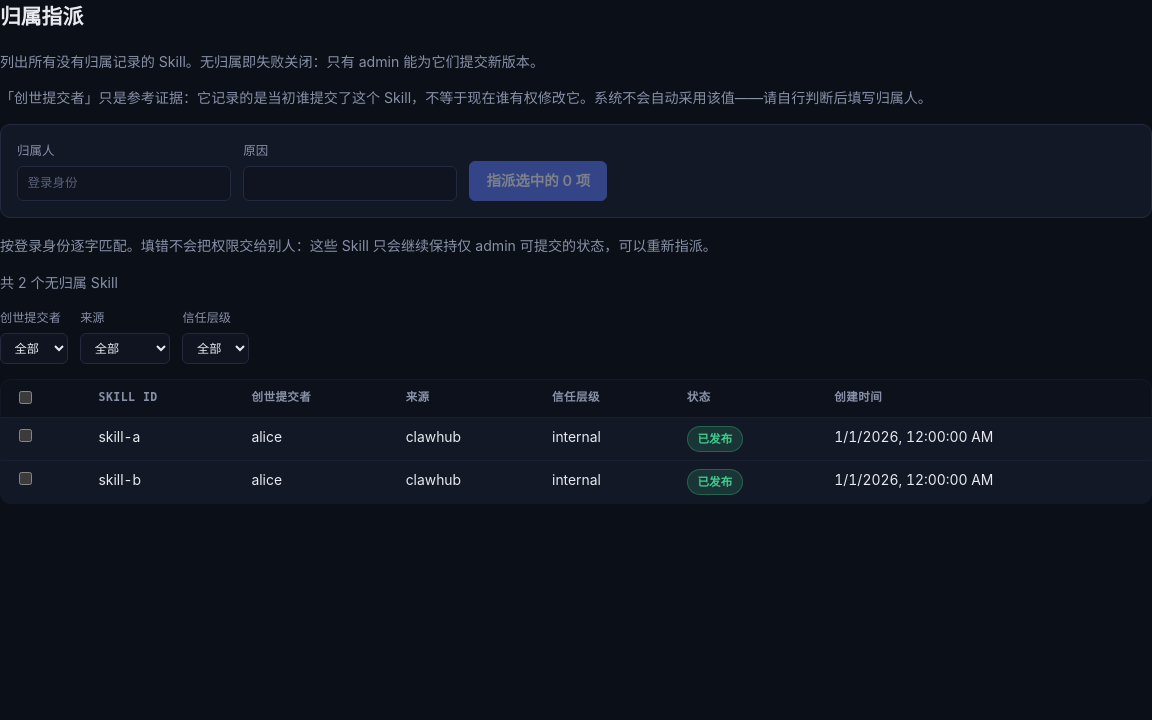
Test: AdminOwnershipPage › shows every row that was not assigned instead of rounding to success
The width and height of the screenshot is (1152, 720).
expect the text "skill-a" is shown: met, box [85, 418, 238, 461]
Click the checkbox named "全选当前页" at point(25, 397), box [19, 391, 32, 404]
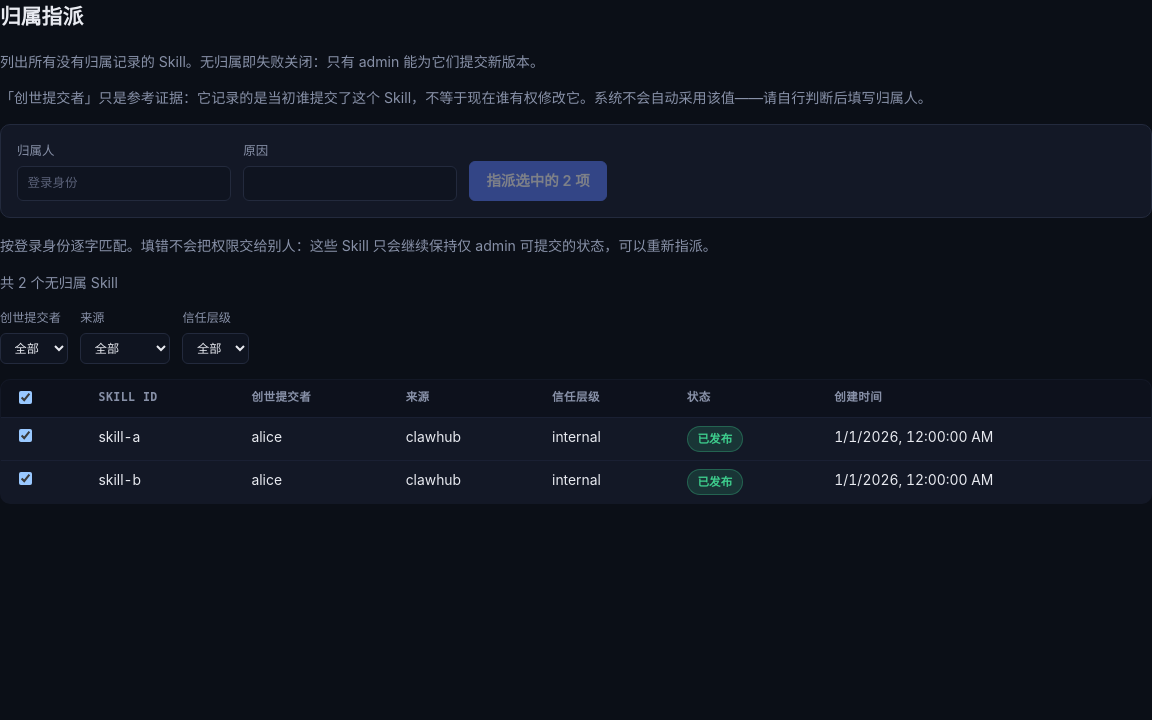
Type "alice" into the field with placeholder "登录身份" at point(124, 183), box [17, 166, 231, 200]
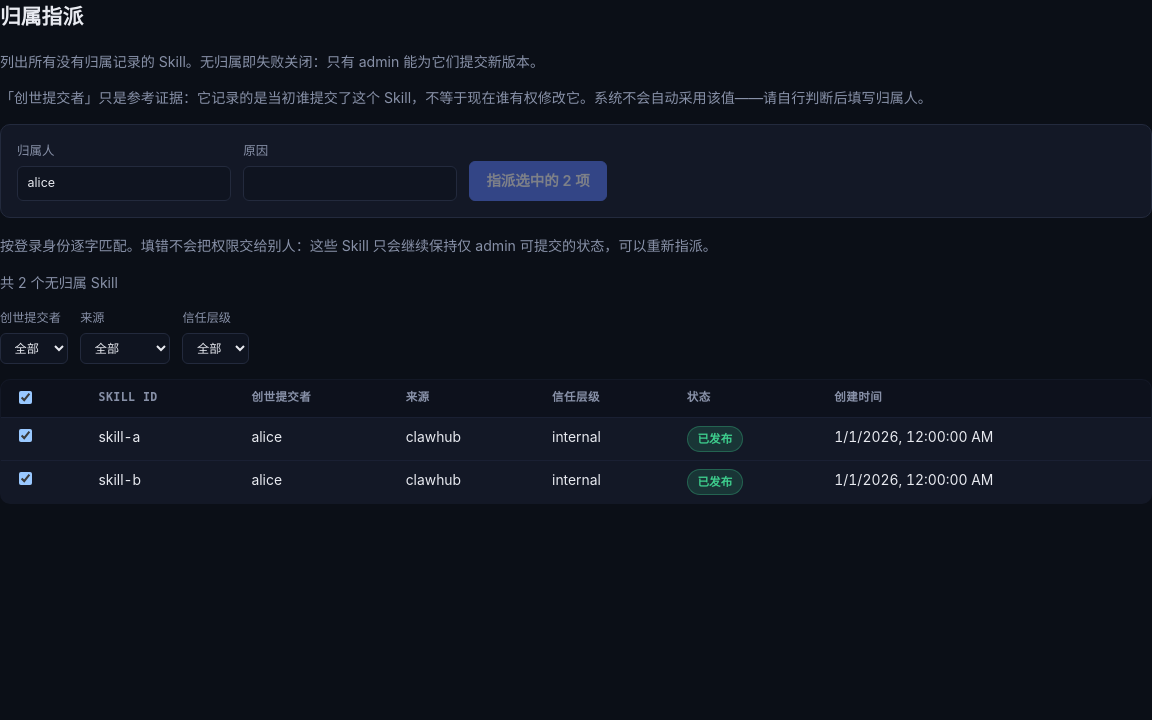
Type "r" into the field labelled "原因" at point(350, 183), box [243, 166, 457, 200]
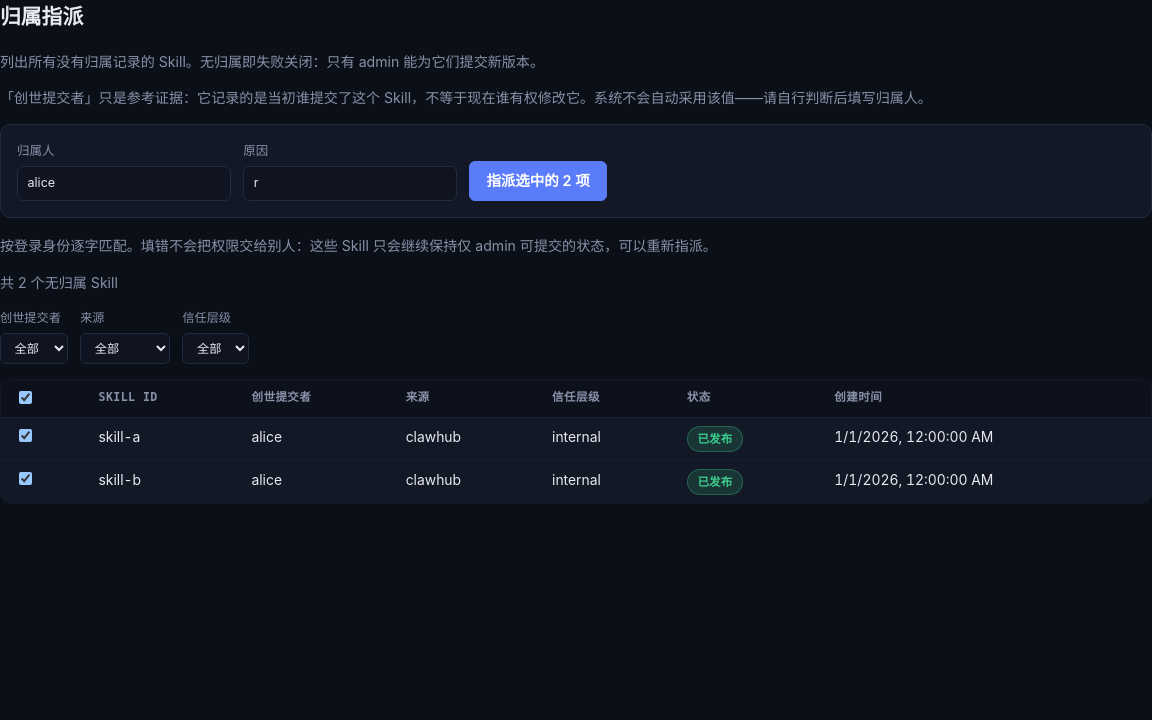
Click the button "指派选中的 2 项" at point(538, 181), box [469, 161, 607, 201]
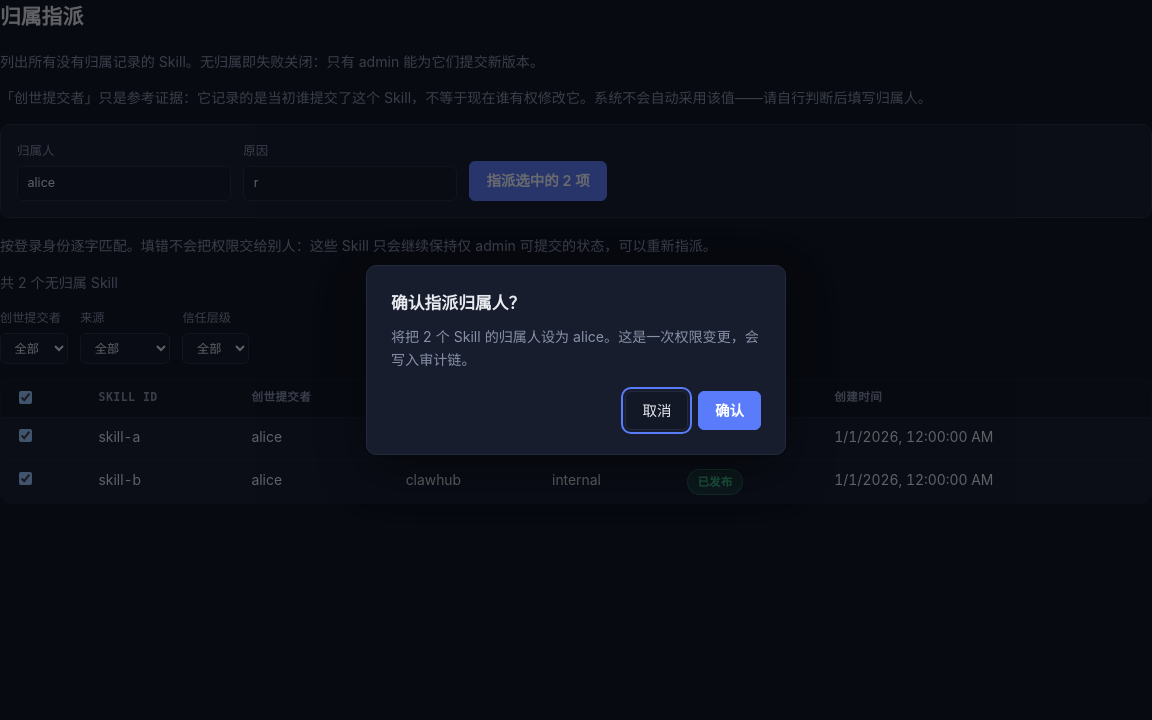
Click the button "确认" at point(730, 410), box [698, 391, 761, 430]
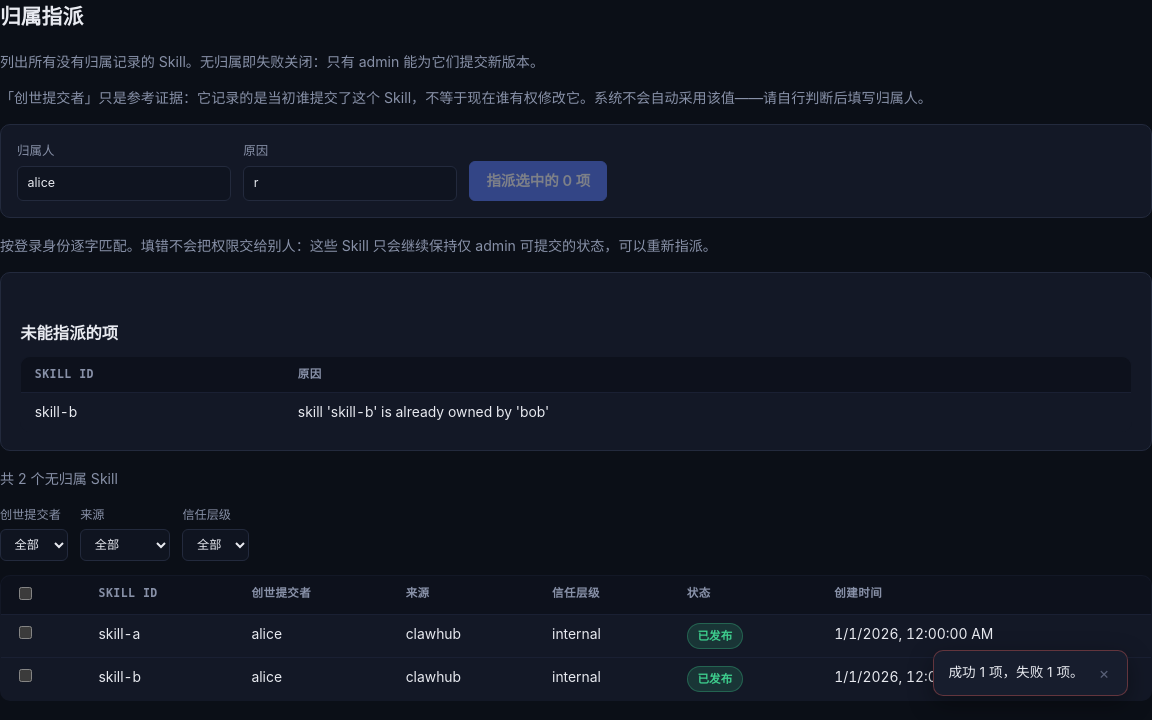
expect the text "skill 'skill-b' is already owned by 'bob'" is shown: met, box [284, 392, 1131, 432]
expect the text "成功 1 项，失败 1 项。" is shown: met, box [948, 662, 1084, 684]
